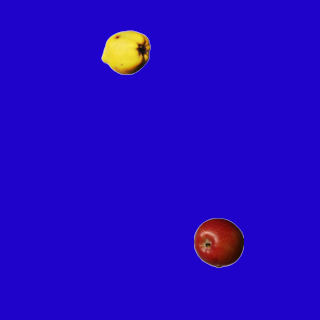Apple Braeburn: (193, 217, 243, 267)
Quince: (100, 27, 150, 77)
